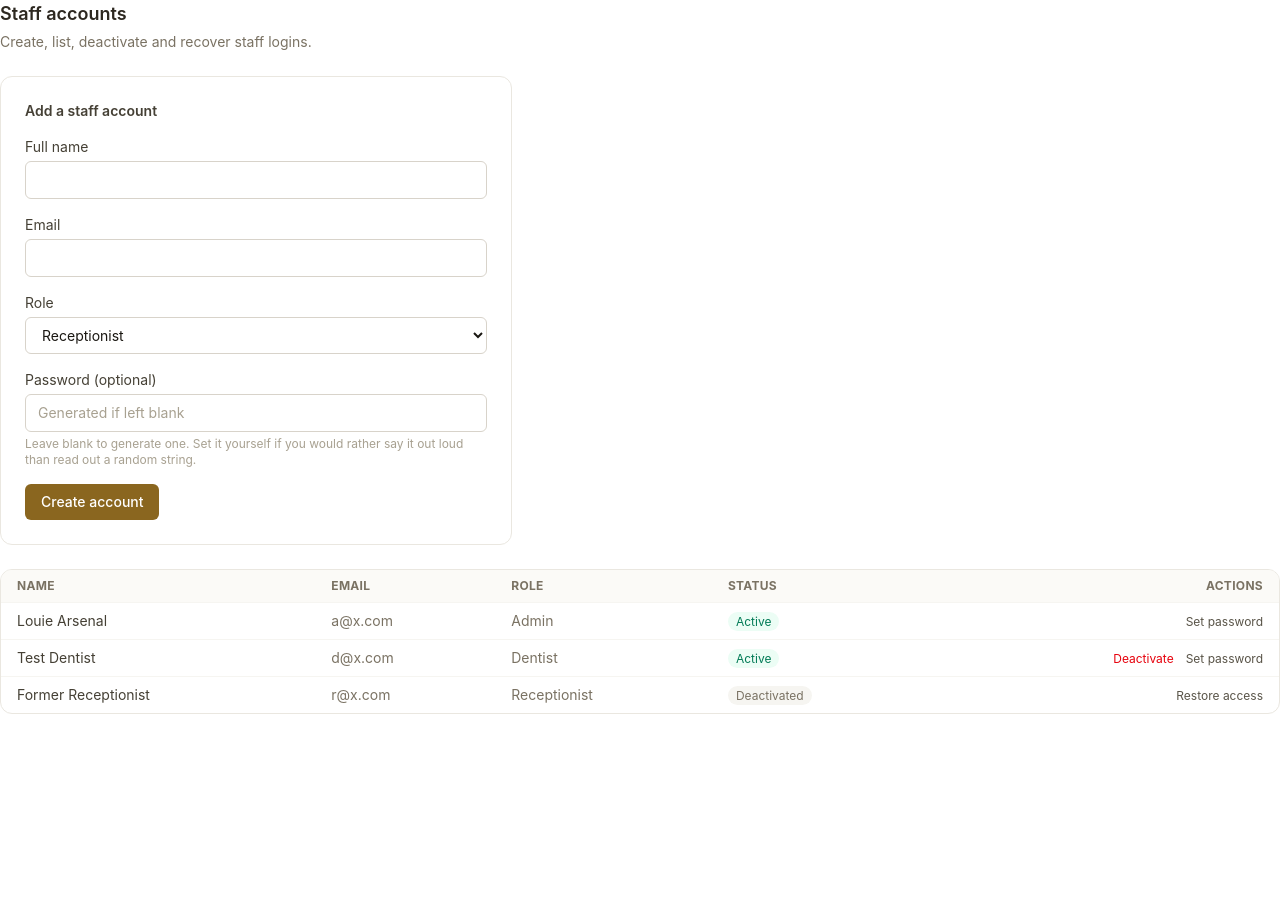
it: StaffManagementPage › shows the new password once, with what to do with it
This screenshot has width=1280, height=900.
Expected: the text "Test Dentist" is shown, left=1, top=640, right=315, bottom=676
Click the button "Set password" in the row of "Test Dentist". click: click(1224, 659)
box: left=1186, top=651, right=1263, bottom=667
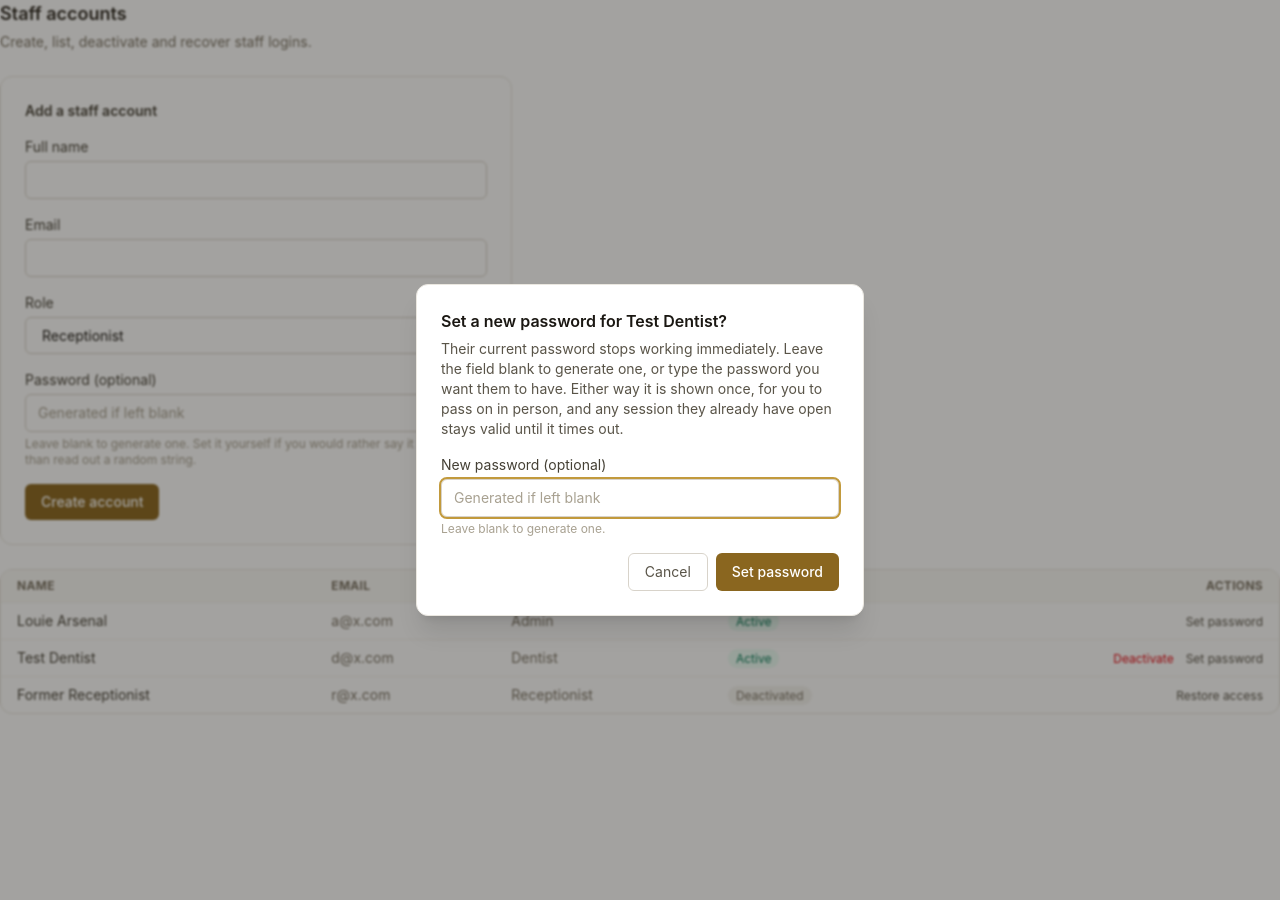
Click the button "Set password". click: click(777, 572)
box: left=716, top=553, right=839, bottom=591
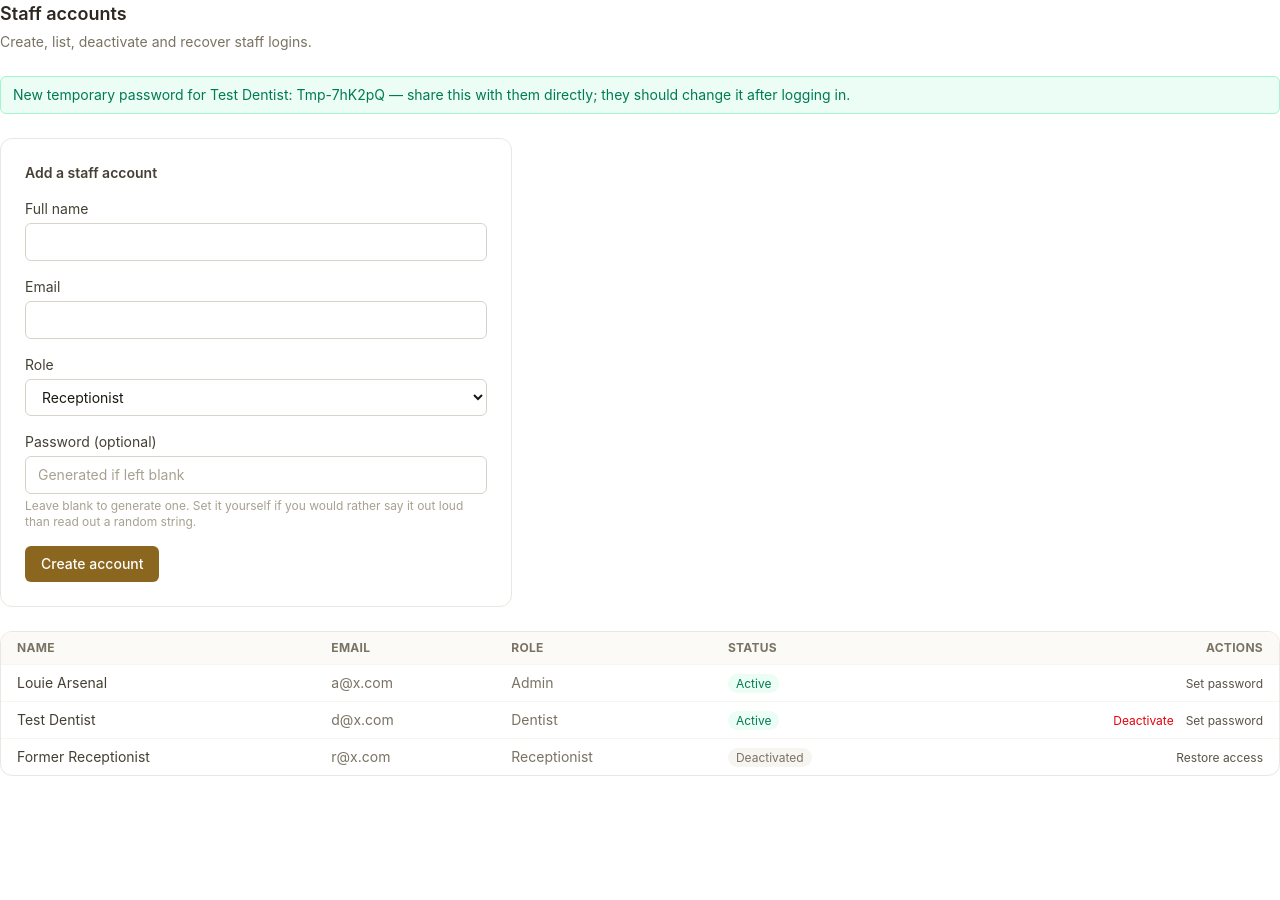
Expected: the text "share this with them directly" is shown, left=13, top=86, right=850, bottom=103
